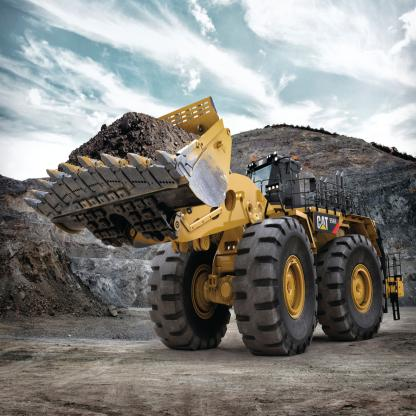bull_dozer/loader/grader: (25, 87, 410, 360)
